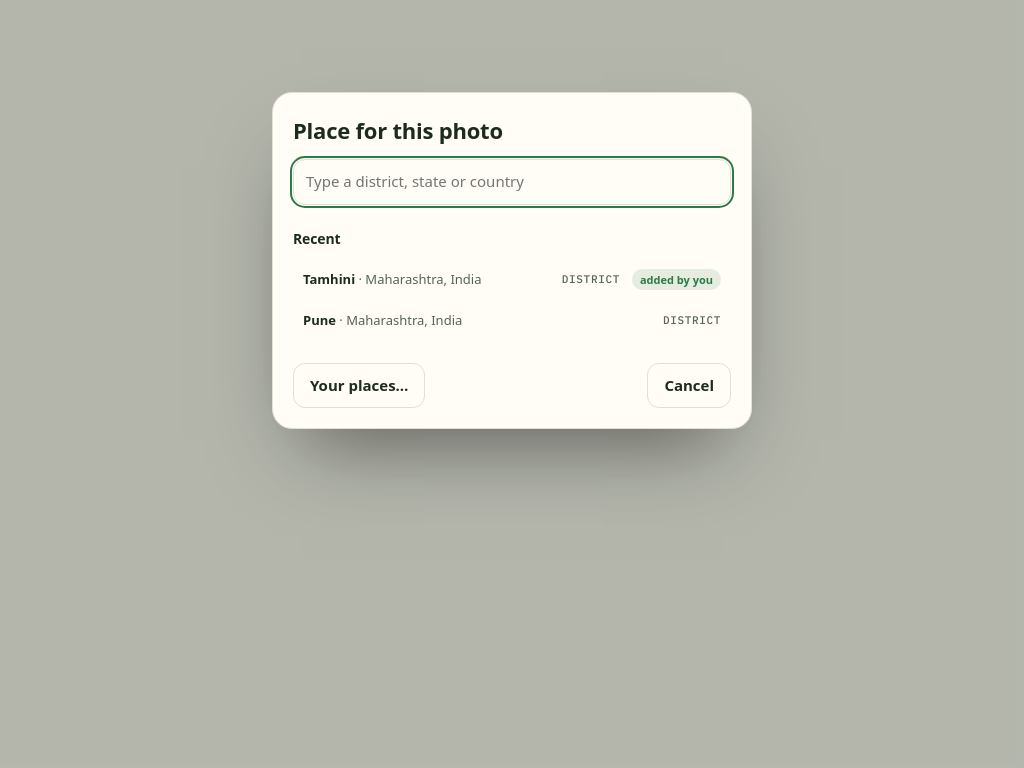
Test: a refusal while choosing is shown and the picker stays
The image size is (1024, 768).
What coordinates should you click on to do the following:
click the option "Pune · Maharashtra, India district"
I would click on:
 (319, 320)
Its box is [303,310,721,328].
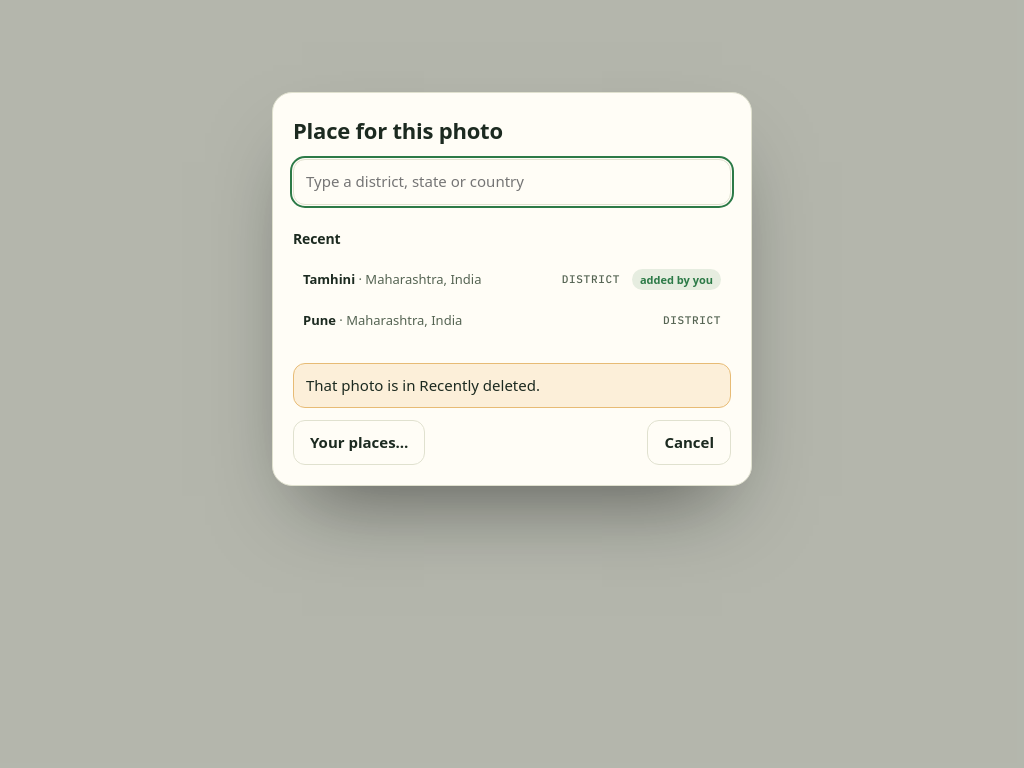
Check: the message reads "That photo is in Recently deleted.", box [306,375,540,395]
